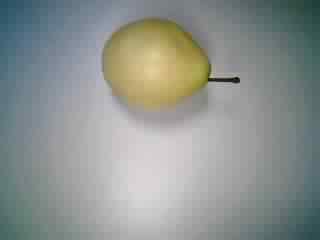pear: (90, 11, 246, 117)
